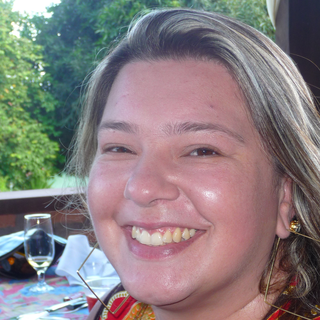eye: (177, 140, 230, 165), (98, 138, 143, 164)
